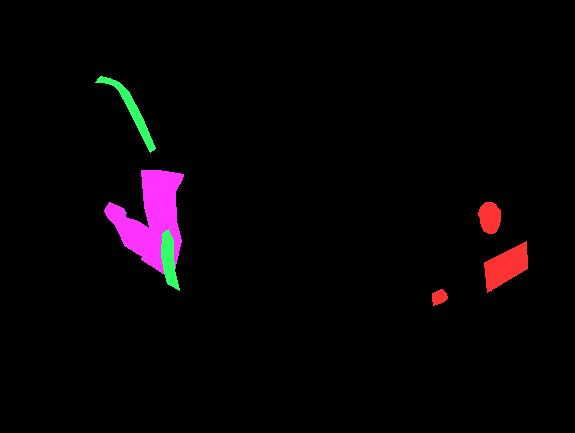Broken part: (95, 76, 155, 152), (161, 229, 179, 290)
Dent: (141, 170, 183, 279), (104, 202, 150, 256)
Missing part: (484, 241, 527, 292), (478, 202, 500, 233), (432, 289, 447, 305)
Scratch: (105, 207, 126, 215), (154, 210, 164, 223), (126, 232, 136, 243), (135, 236, 144, 247)
